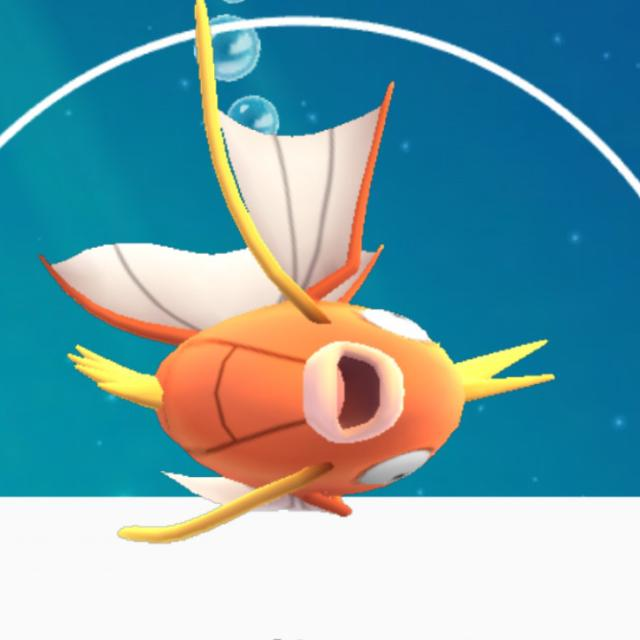Magikarp: (70, 272, 531, 502)
